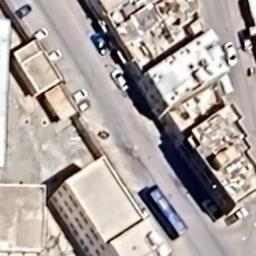others: (141, 183, 190, 243)
pickup: (224, 205, 252, 228), (237, 26, 254, 52)
sedan: (89, 30, 111, 56), (108, 67, 130, 92), (223, 40, 240, 68), (66, 86, 90, 105), (12, 1, 34, 19), (29, 26, 50, 42), (45, 48, 63, 62)
